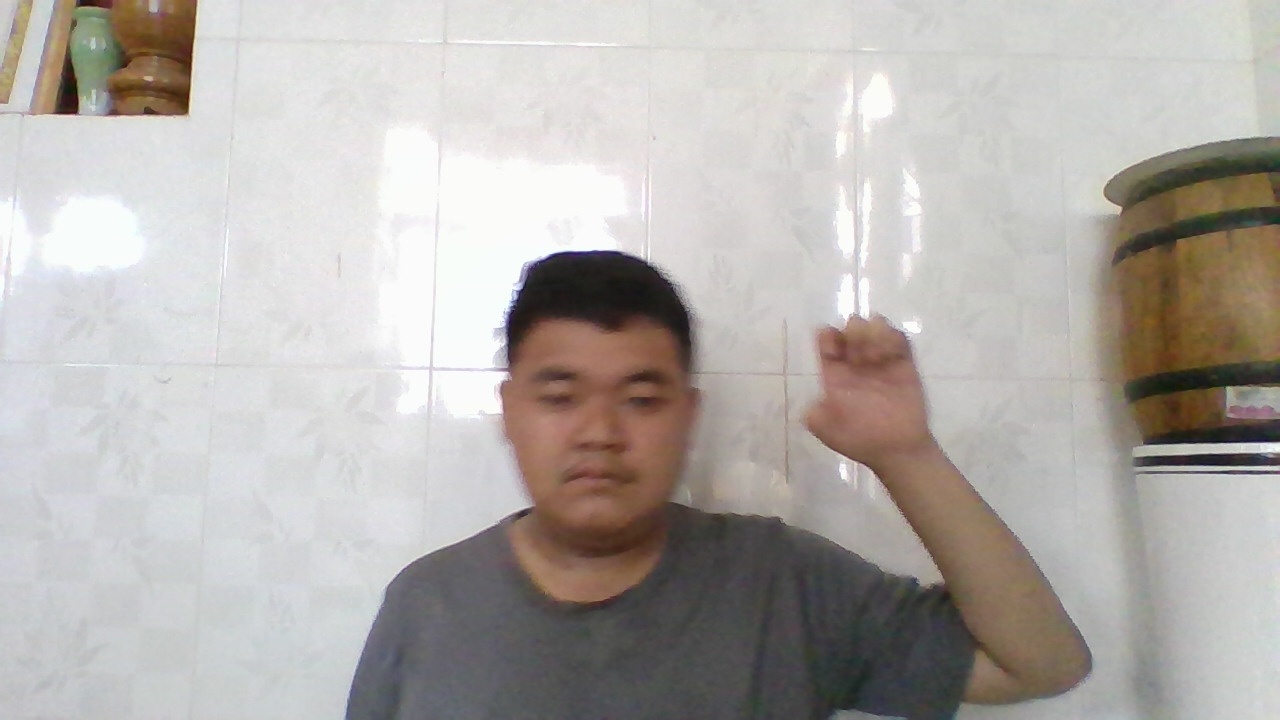E: (798, 307, 917, 466)
